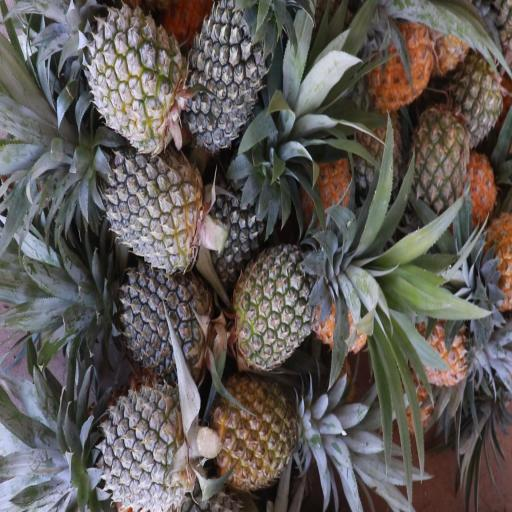------------------------------: (92, 4, 178, 148), (234, 245, 332, 365), (212, 376, 304, 487), (408, 109, 473, 213)
Pineapple - v8 v1: (370, 19, 434, 104)
